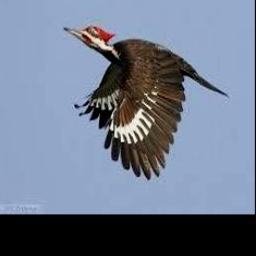Woodpecker: (64, 25, 229, 180)
